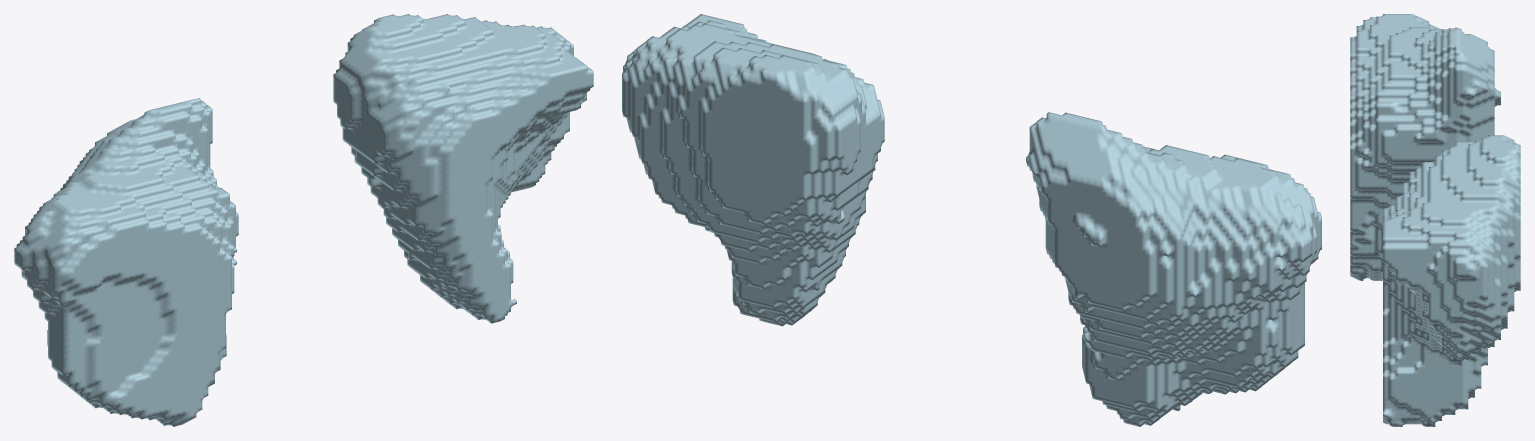
File: region-12.glb
The picture shows the model from 3 angles, left to right: view 1: azimuth 30°, elevation 25°; view 2: azimuth 150°, elevation 25°; view 3: azimuth 270°, elevation 25°; orthographic projection. The views are drawn at different scales.
Visible parts, largest first — view 1: digimouse-volume:12; view 2: digimouse-volume:12; view 3: digimouse-volume:12.
Boxes of the visible parts, left/top/right/bottom form: digimouse-volume:12: left=14, top=14, right=593, bottom=426; digimouse-volume:12: left=622, top=14, right=1321, bottom=426; digimouse-volume:12: left=1350, top=14, right=1520, bottom=426.
Bounding box in the file's own units: 0.0098 × 0.0046 × 0.0026.
